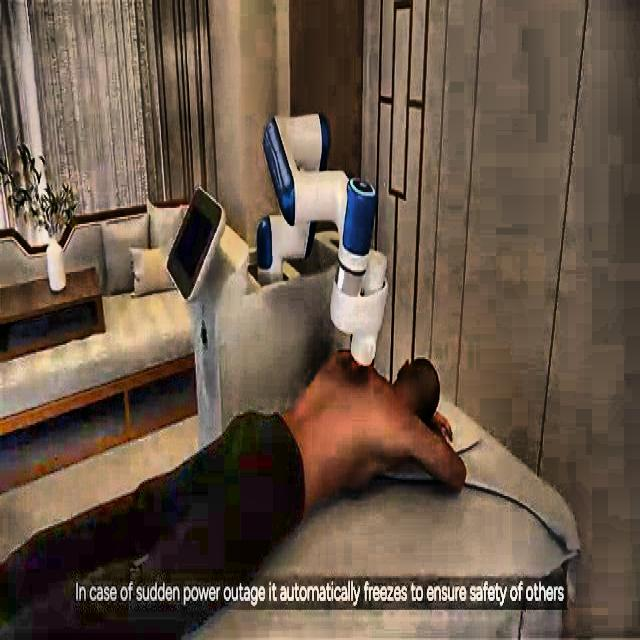robot: (255, 110, 389, 366)
